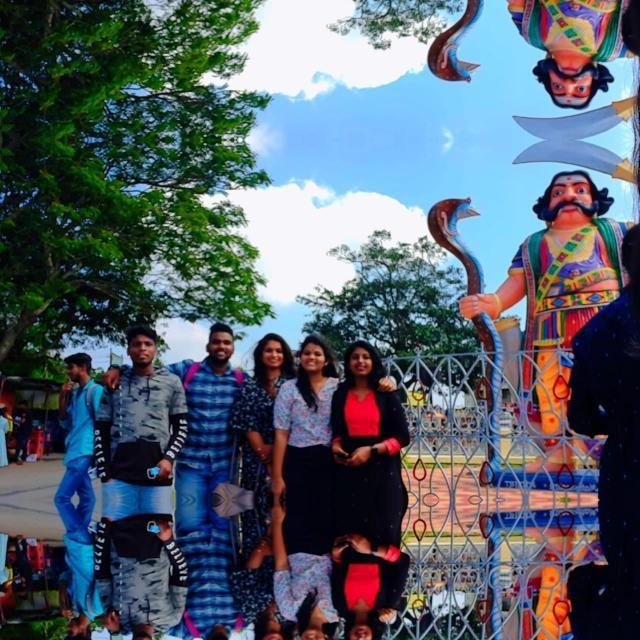person: (333, 343, 407, 495), (333, 505, 407, 640), (116, 332, 178, 486), (183, 326, 245, 468), (116, 514, 177, 640), (288, 334, 342, 466), (183, 532, 245, 640), (246, 334, 288, 468), (288, 534, 341, 640), (245, 531, 288, 640)
